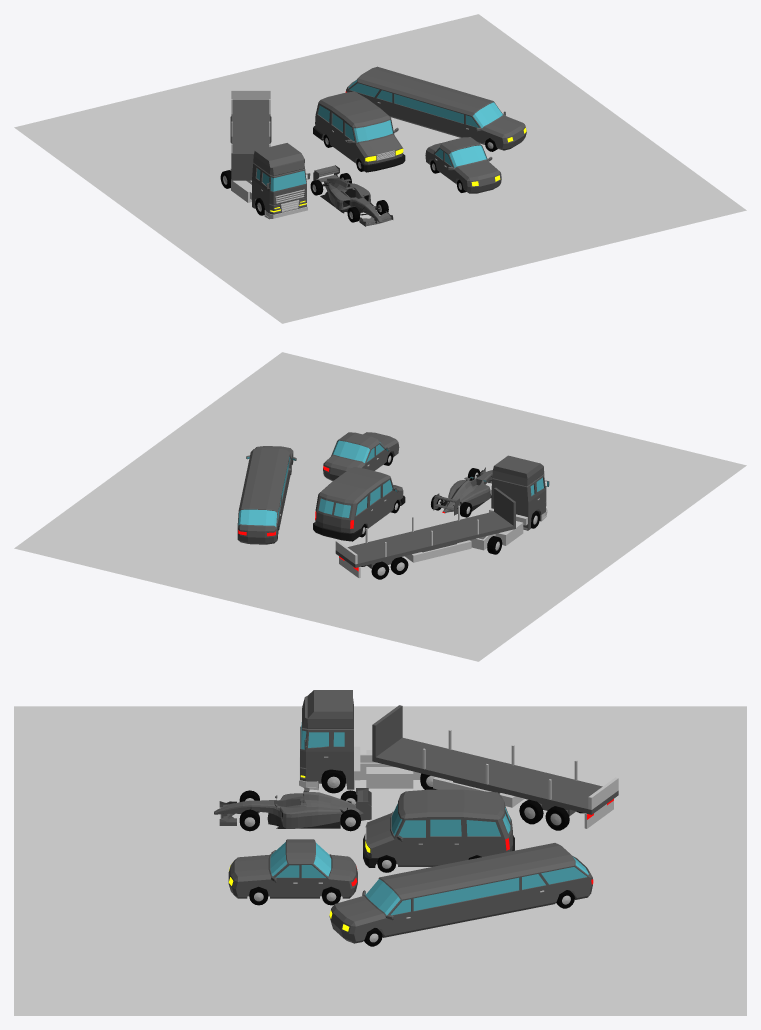
Rendered from ForAsset.fbx.
3 views of the same model, one above another, from view 1: azimuth 30°, elevation 25°; view 2: azimuth 150°, elevation 25°; view 3: azimuth 270°, elevation 25° (orthographic). The views are drawn at different scales.
Parts seen in each view (by area): view 1: Plane, limousine, minivan, truck1, trailer2, sedan, formula1; view 2: Plane, trailer2, minivan, limousine, truck1, sedan, formula1; view 3: Plane, limousine, minivan, trailer2, truck1, sedan, formula1.
Boxes of the visible parts, x1,y1,x2,y2 form: Plane: (14, 14, 746, 323); limousine: (345, 66, 526, 150); minivan: (313, 91, 405, 172); truck1: (230, 143, 310, 219); trailer2: (231, 90, 270, 180); sedan: (425, 137, 501, 193); formula1: (313, 165, 393, 226); Plane: (14, 352, 746, 661); trailer2: (335, 487, 515, 578); minivan: (313, 467, 405, 541); limousine: (237, 446, 296, 544); truck1: (470, 455, 549, 550); sedan: (323, 432, 399, 481); formula1: (433, 467, 492, 515); Plane: (14, 706, 746, 1015); limousine: (329, 843, 593, 943); minivan: (363, 789, 514, 867); trailer2: (372, 705, 618, 828); truck1: (299, 690, 420, 790); sedan: (228, 839, 357, 898); formula1: (214, 787, 371, 828).
Bounding box in the file's own units: 2720 × 330 × 2720.
